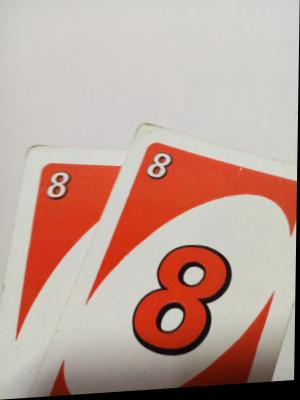num_8: (42, 167, 75, 208), (143, 146, 176, 187)
